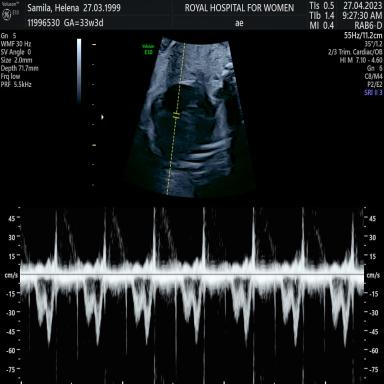Ultrasound-Waves: (25, 204, 361, 384)
